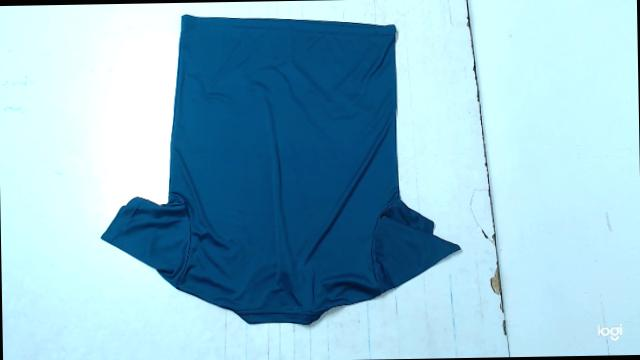new-garment: (102, 15, 460, 323)
